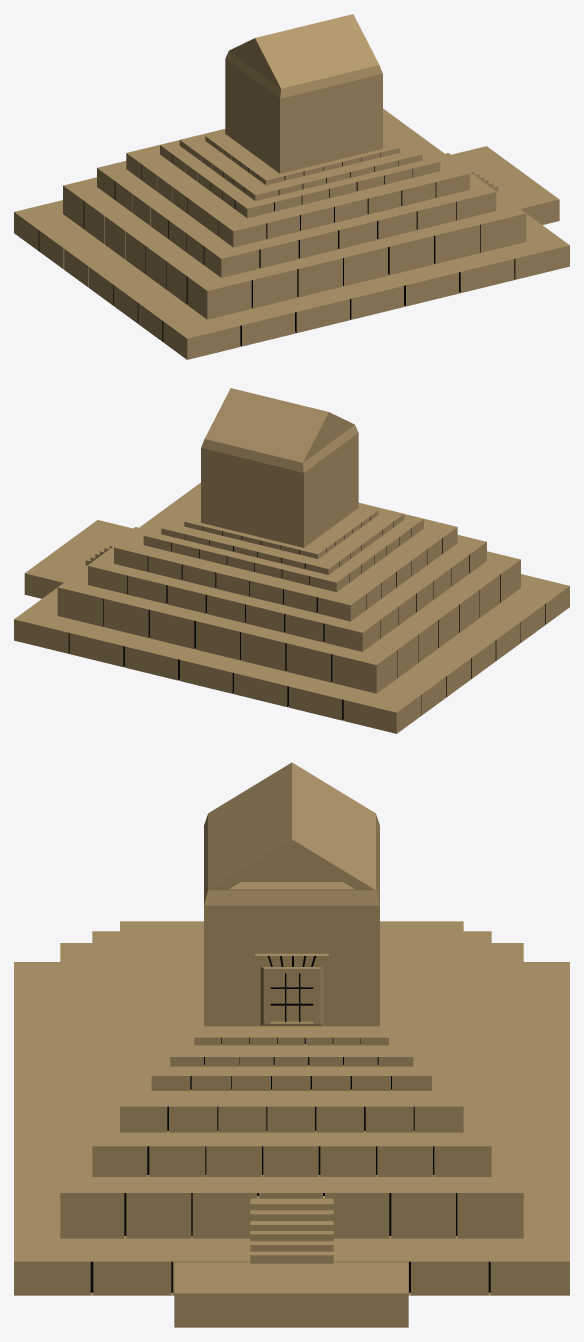
The model's file is Tomp.fbx.
The picture shows the model from 3 angles, top to bottom: view 1: azimuth 30°, elevation 25°; view 2: azimuth 150°, elevation 25°; view 3: azimuth 270°, elevation 25°; orthographic projection. The views are drawn at different scales.
Parts seen in each view (by area): view 1: Cube; view 2: Cube; view 3: Cube.
Boxes of the visible parts, bbox=[...] form: Cube: bbox=[14, 14, 569, 359]; Cube: bbox=[14, 388, 569, 733]; Cube: bbox=[14, 762, 569, 1327].
Bounding box in the file's own units: 1885 × 945 × 1339.
